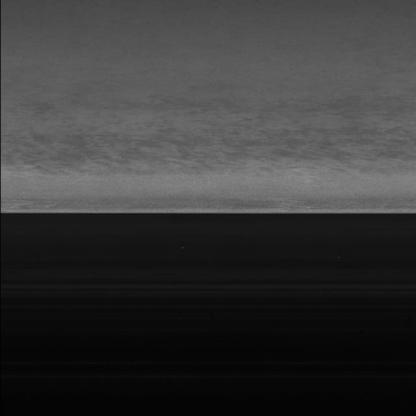silk_spot: (44, 125, 381, 177)
